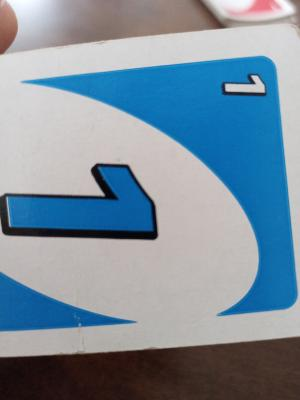blue: (7, 75, 288, 318)
num_1: (216, 68, 271, 115)
